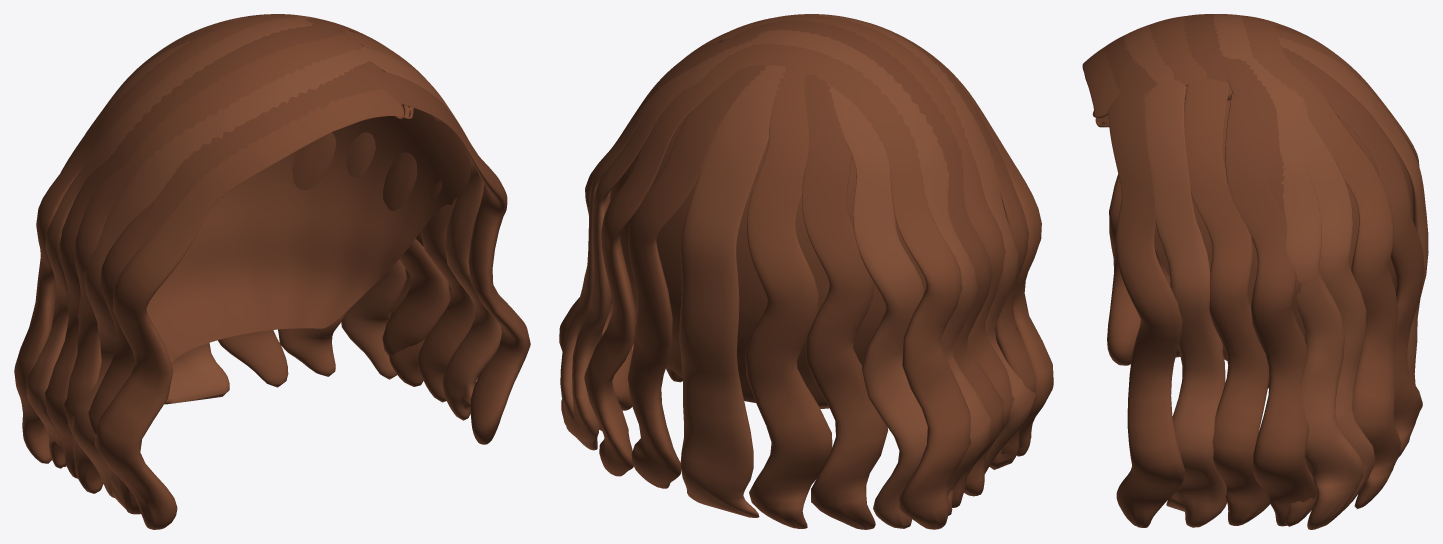
Rendered from curls-cap-default.glb.
The picture shows the model from 3 angles, left to right: view 1: azimuth 30°, elevation 25°; view 2: azimuth 150°, elevation 25°; view 3: azimuth 270°, elevation 25°; orthographic projection. The views are drawn at different scales.
Parts seen in each view (by area): view 1: 226 hair / Hair / sculpted 0.001, 226 hair / Hair / sculpted 1.002, 226 hair / Hair / sculpted 1.001, 226 hair / Hair / sculpted 2.001; view 2: 226 hair / Hair / sculpted 0.001, 226 hair / Hair / sculpted 2.001, 226 hair / Hair / sculpted 1.002, 226 hair / Hair / sculpted 1.001; view 3: 226 hair / Hair / sculpted 1.002, 226 hair / Hair / sculpted 2.001, 226 hair / Hair / sculpted 0.001, 226 hair / Hair / sculpted 1.001.
Part boxes in pixels (<box>): 226 hair / Hair / sculpted 0.001: <box>14,14,474,529</box>; 226 hair / Hair / sculpted 1.002: <box>45,14,530,514</box>; 226 hair / Hair / sculpted 1.001: <box>146,33,470,362</box>; 226 hair / Hair / sculpted 2.001: <box>26,15,501,497</box>; 226 hair / Hair / sculpted 0.001: <box>584,15,1053,529</box>; 226 hair / Hair / sculpted 2.001: <box>560,14,1035,528</box>; 226 hair / Hair / sculpted 1.002: <box>559,14,1036,529</box>; 226 hair / Hair / sculpted 1.001: <box>609,42,926,408</box>; 226 hair / Hair / sculpted 1.002: <box>1103,14,1424,527</box>; 226 hair / Hair / sculpted 2.001: <box>1123,14,1428,529</box>; 226 hair / Hair / sculpted 0.001: <box>1082,15,1419,525</box>; 226 hair / Hair / sculpted 1.001: <box>1154,69,1412,388</box>.
Size of the model in its own units: 0.9483 by 0.8974 by 0.6709.
